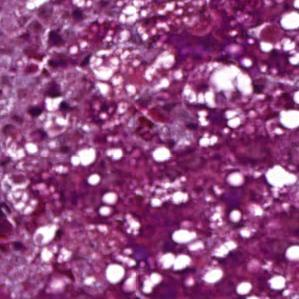ballooning: (182, 58, 253, 110)
